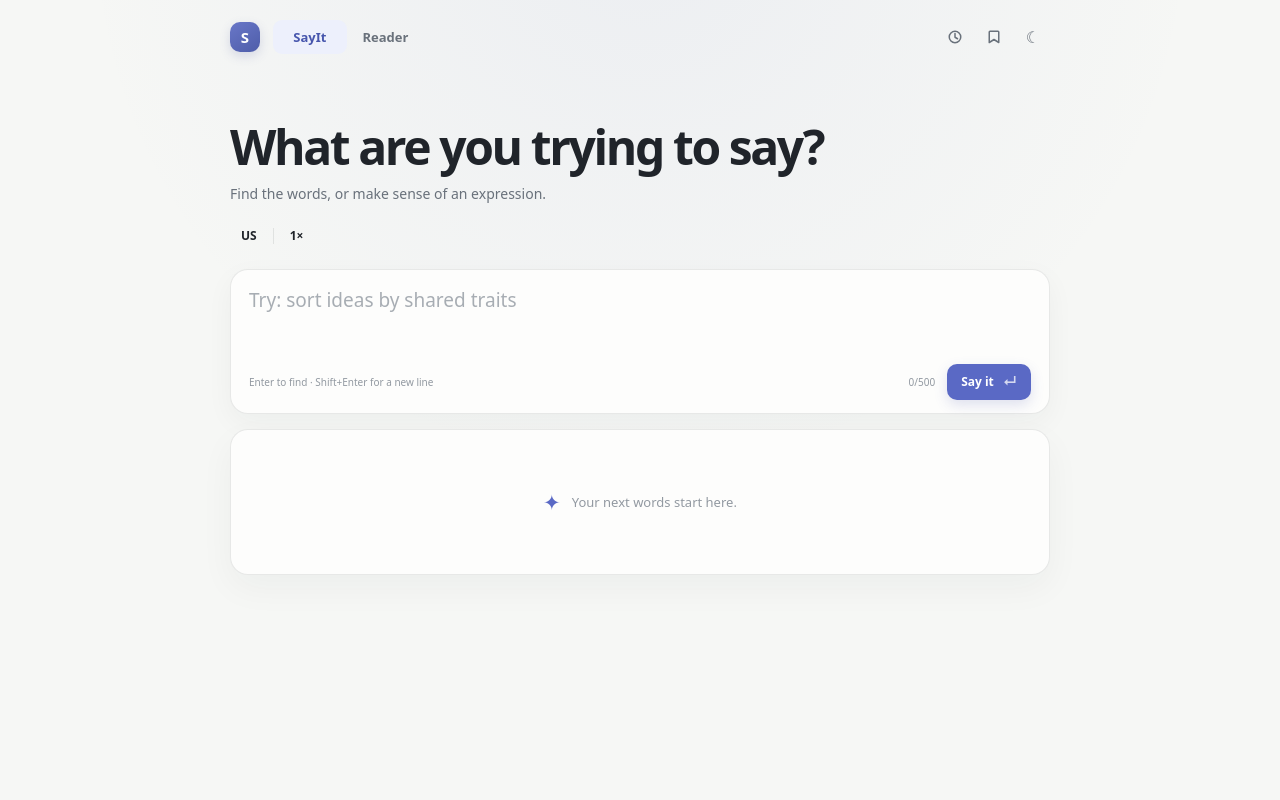
shared History navigation › shows one Latest action in History instead of a Today button per date
(page scrolled)
Click the button "Reader" at (385, 37), box x1=349 y1=20 x2=422 y2=54
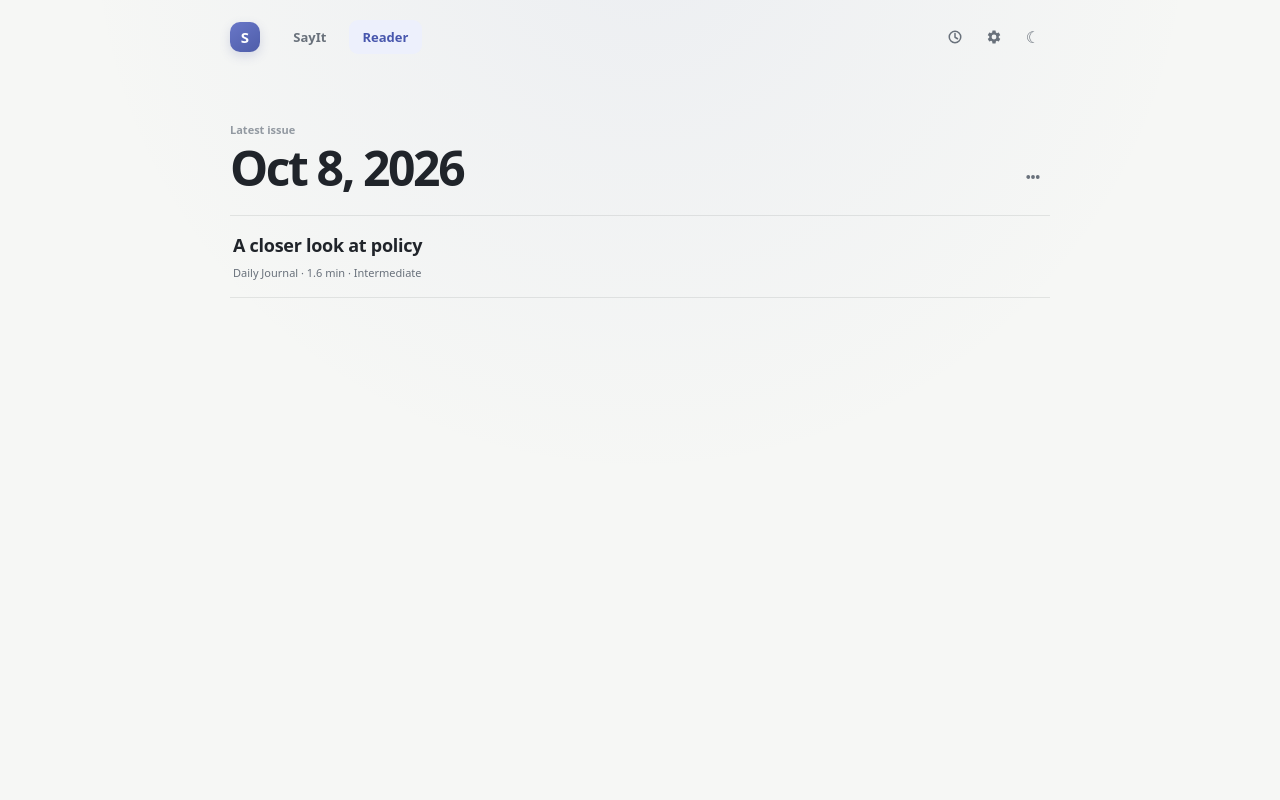
Click the button named "Open history, 0 recent expressions" at (955, 37), box x1=938 y1=20 x2=972 y2=54
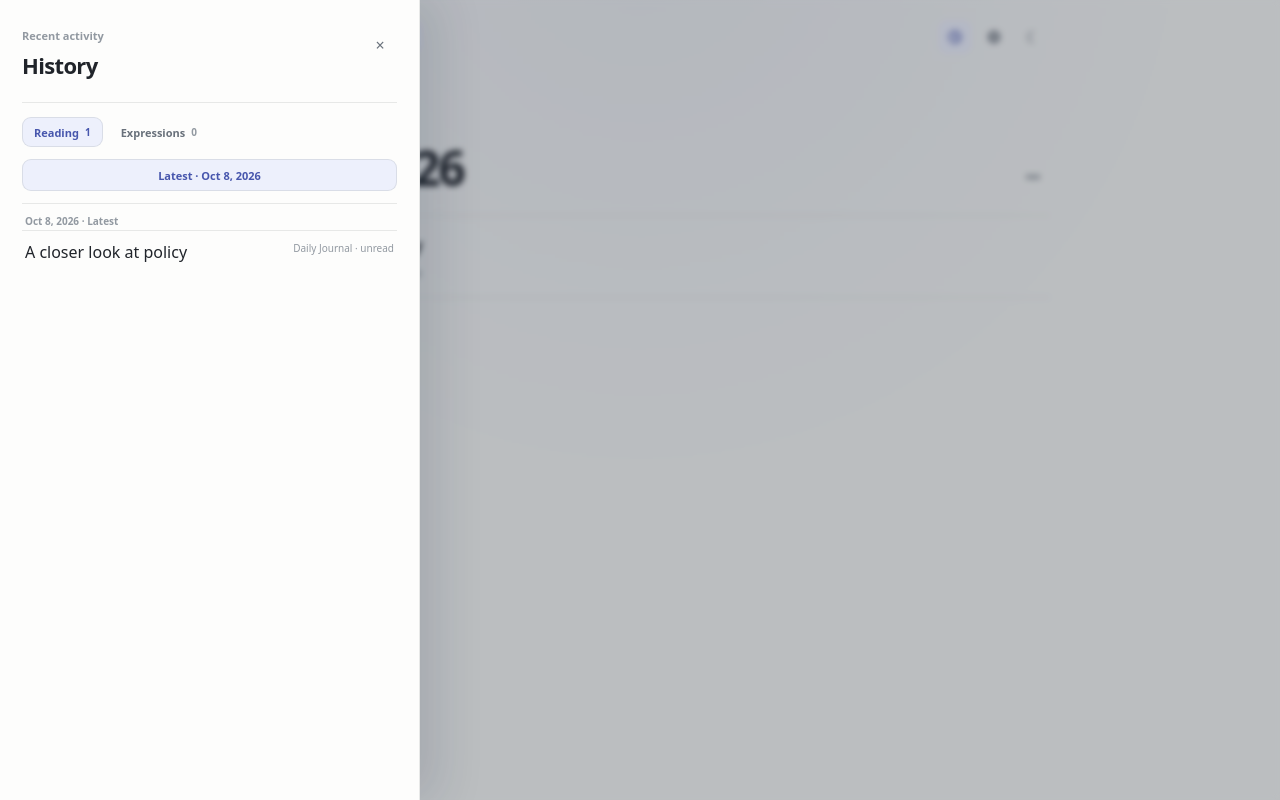
Expected: the dialog with class "history-drawer" is shown, x1=0 y1=0 x2=420 y2=799
Expected: the number of buttons with class "history-latest-action" is 1, x1=22 y1=159 x2=397 y2=191
Expected: the button with class "history-latest-action" shows "Oct 8, 2026", x1=22 y1=159 x2=397 y2=191
